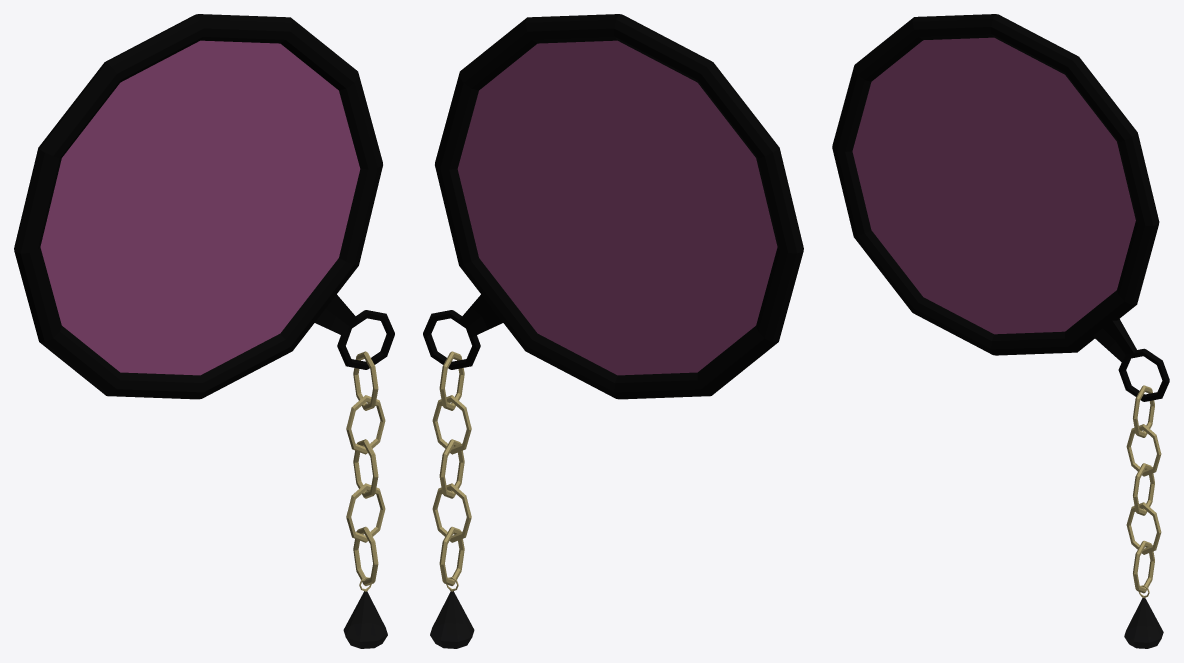
File: monocle.fbx
3 renders of one model, left to right at view 1: azimuth 30°, elevation 25°; view 2: azimuth 150°, elevation 25°; view 3: azimuth 330°, elevation 25°, orthographic. The views are drawn at different scales.
Visible parts, largest first — view 1: Monocle; view 2: Monocle; view 3: Monocle.
Part boxes in pixels (bbox=[...]): Monocle: bbox=[14, 14, 394, 648]; Monocle: bbox=[423, 14, 803, 648]; Monocle: bbox=[832, 14, 1169, 648].
Bounding box in the file's own units: 97.37 × 165 × 10.24.
